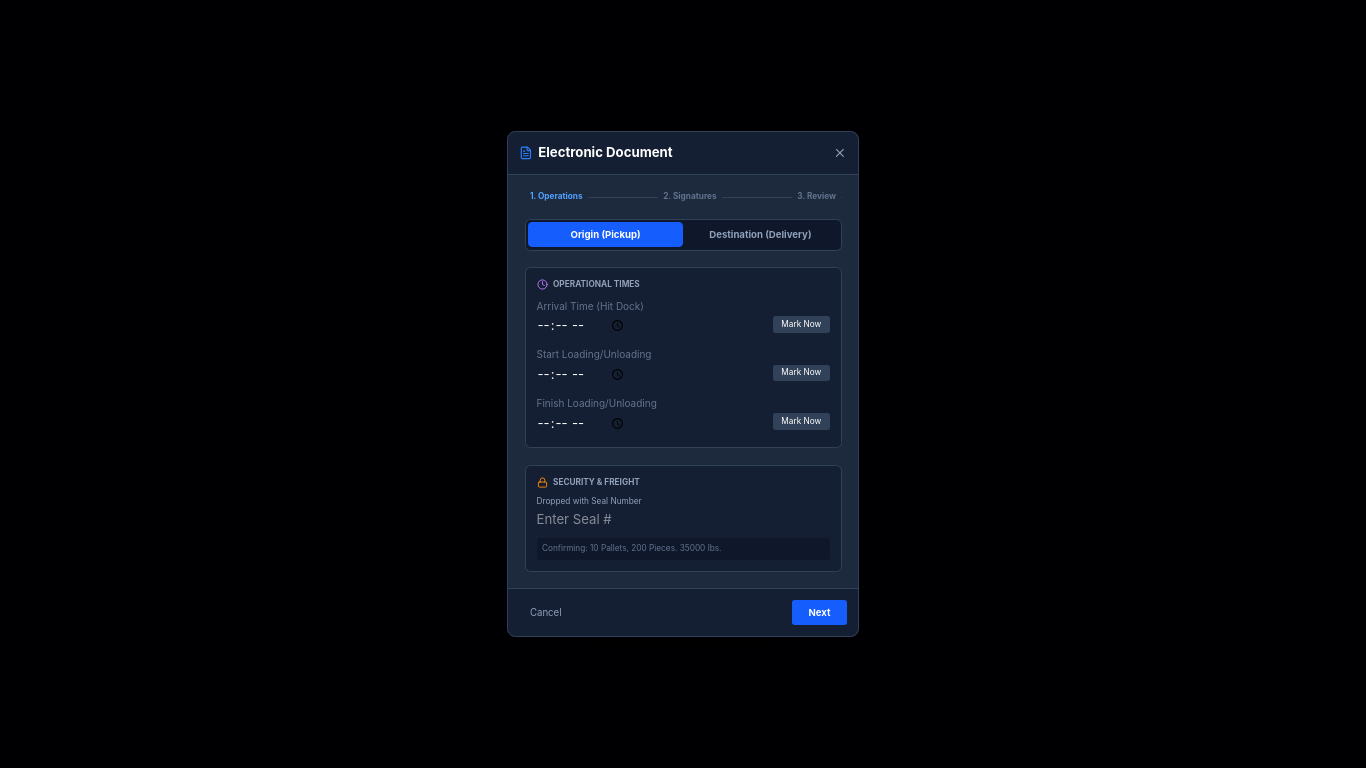
Scenario: BolGenerator deep coverage - uncovered lines 248-319 › step 3 - review summary shows time data (lines 389-452) › shows arrival and finish times on step 3 when set via Mark Now
The width and height of the screenshot is (1366, 768).
# Set times via Mark Now
Step 1. Click the button "Mark Now" below "Arrival Time (Hit Dock)" → (801, 324), box [773,316,830,333]
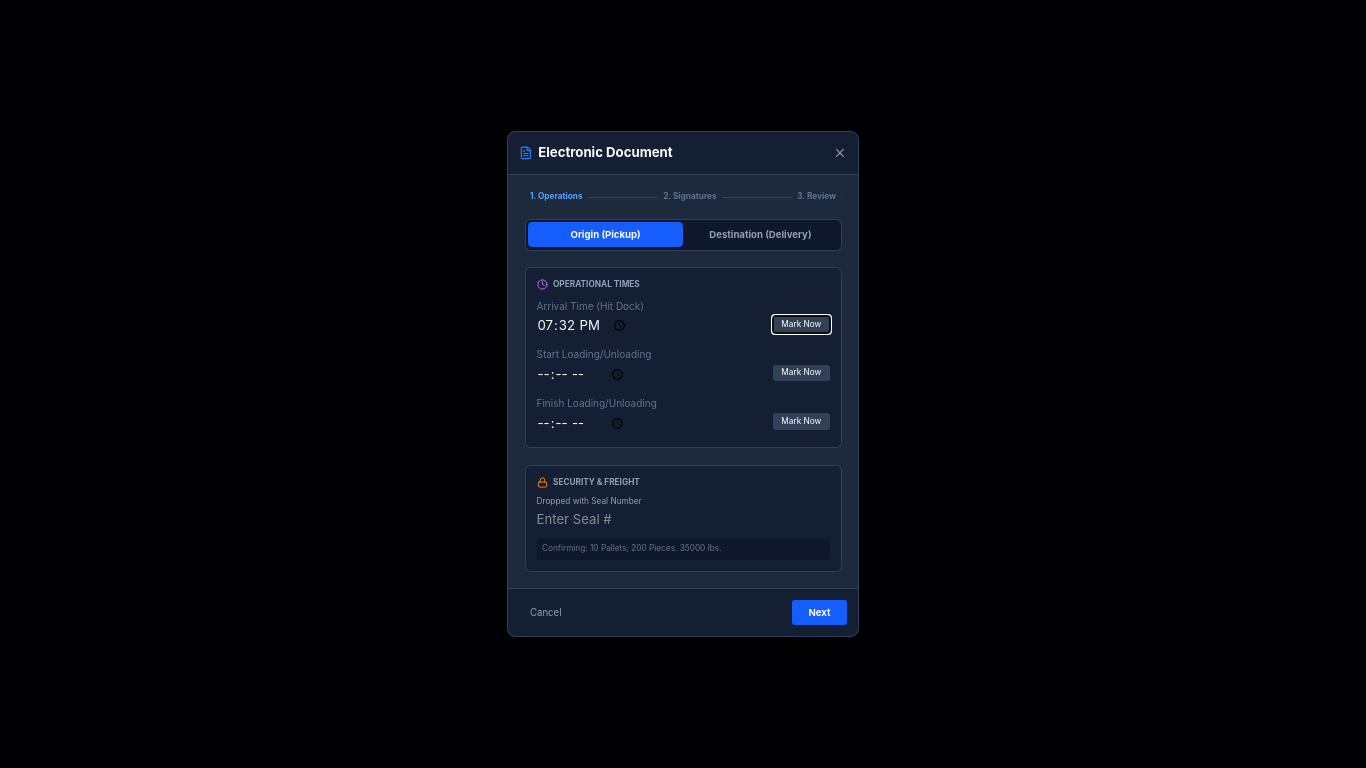
Step 2. Click the button "Mark Now" below "Finish Loading/Unloading" → (801, 422), box [773,413,830,430]
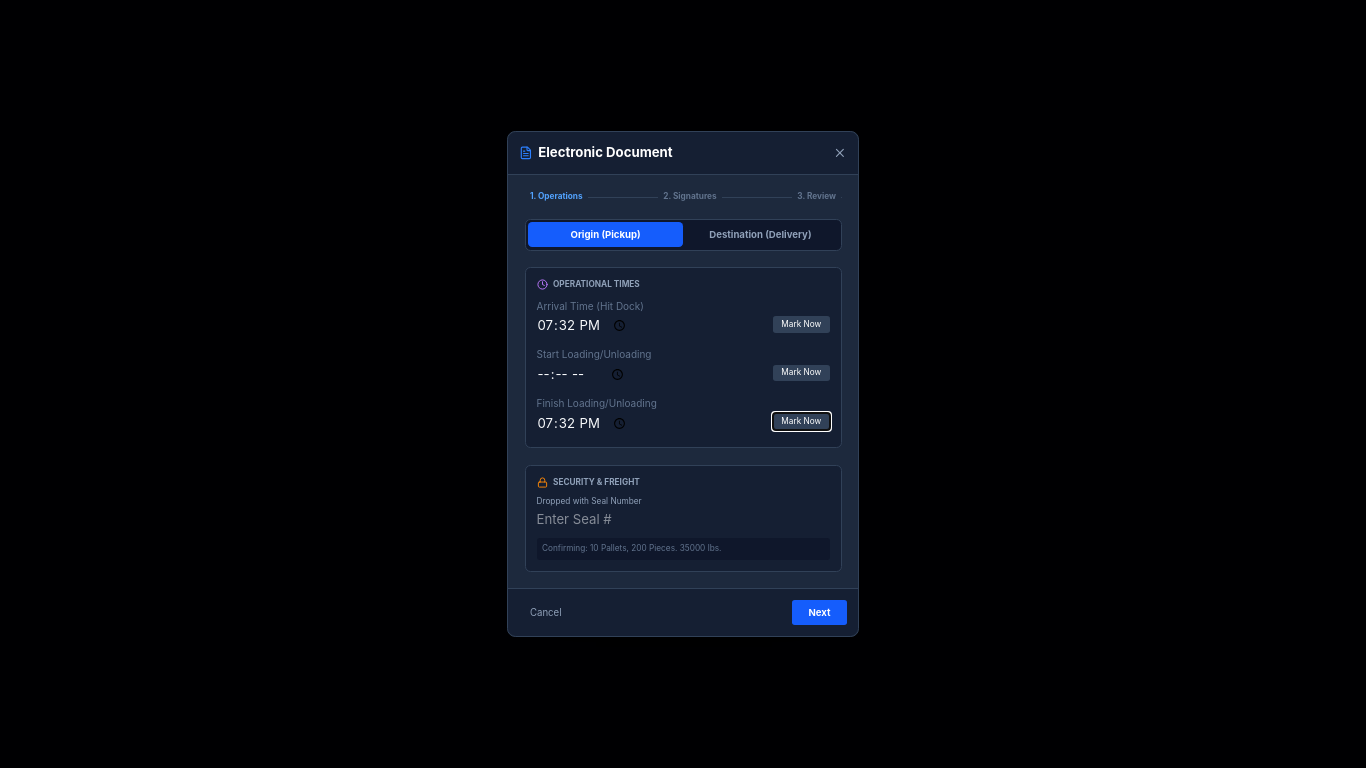
# Navigate to step 3
Step 3. Click the button "Next" → (819, 613), box [792,600,847,625]
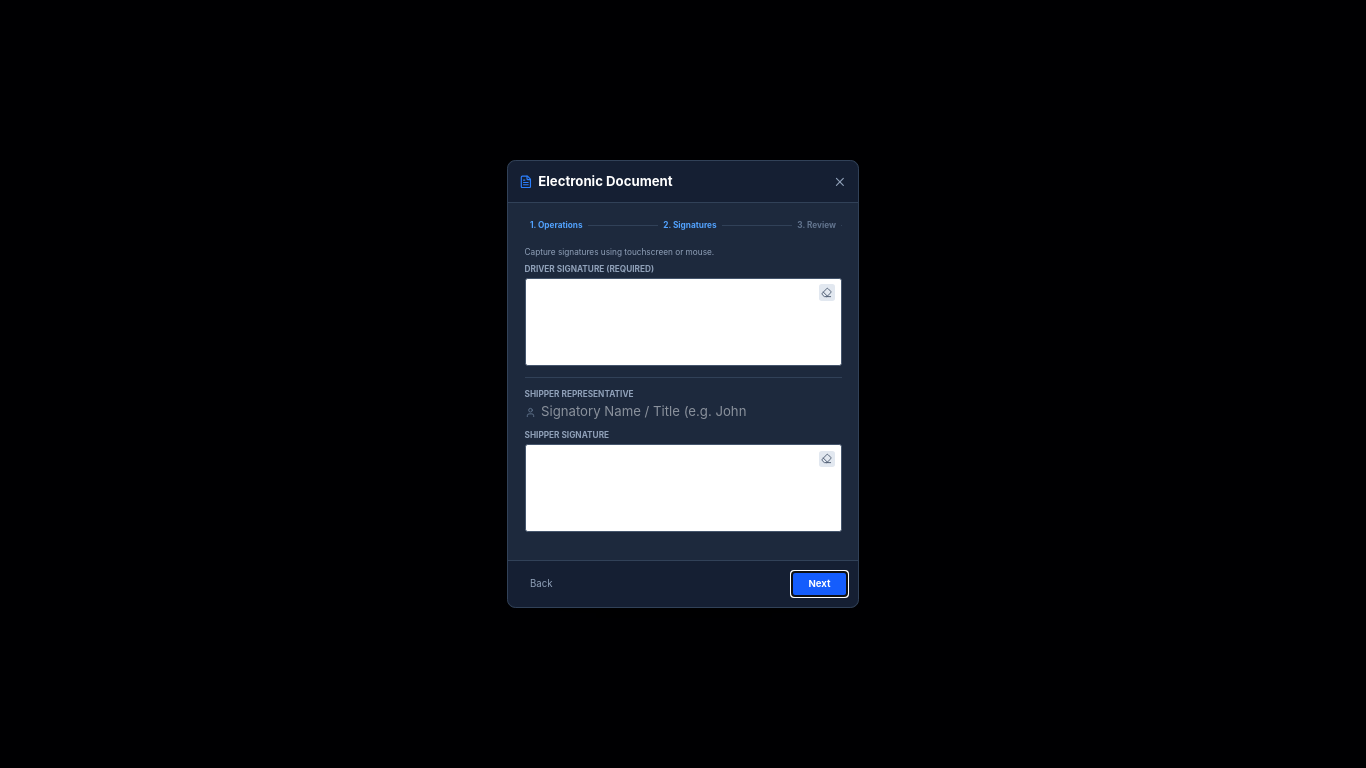
Step 4. Click the button "Next" → (819, 584), box [792,572,847,596]
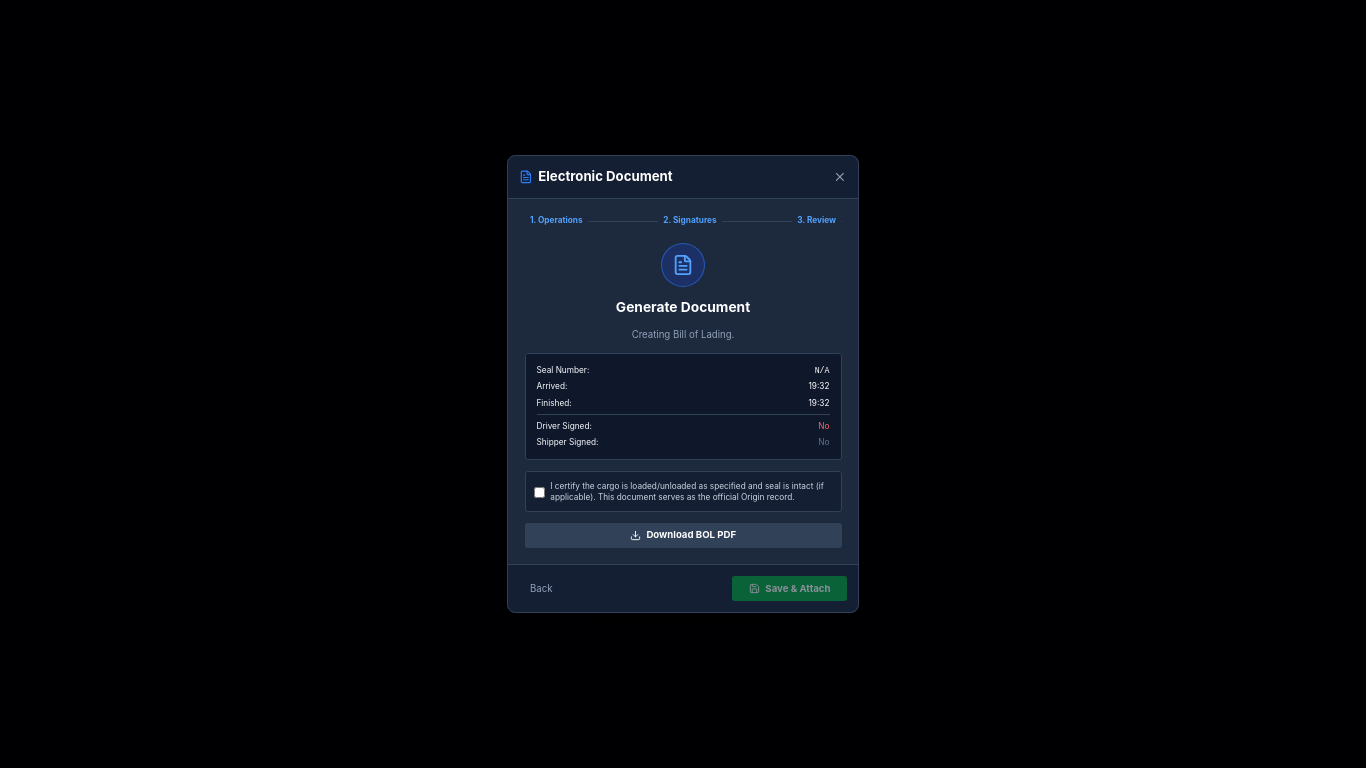
Expected: the text "Arrived:" is shown, [536,381,567,392]
Expected: the text "Finished:" is shown, [536,398,572,409]
